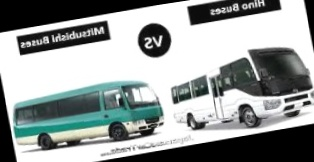bus: (164, 40, 314, 140), (7, 73, 167, 159)
